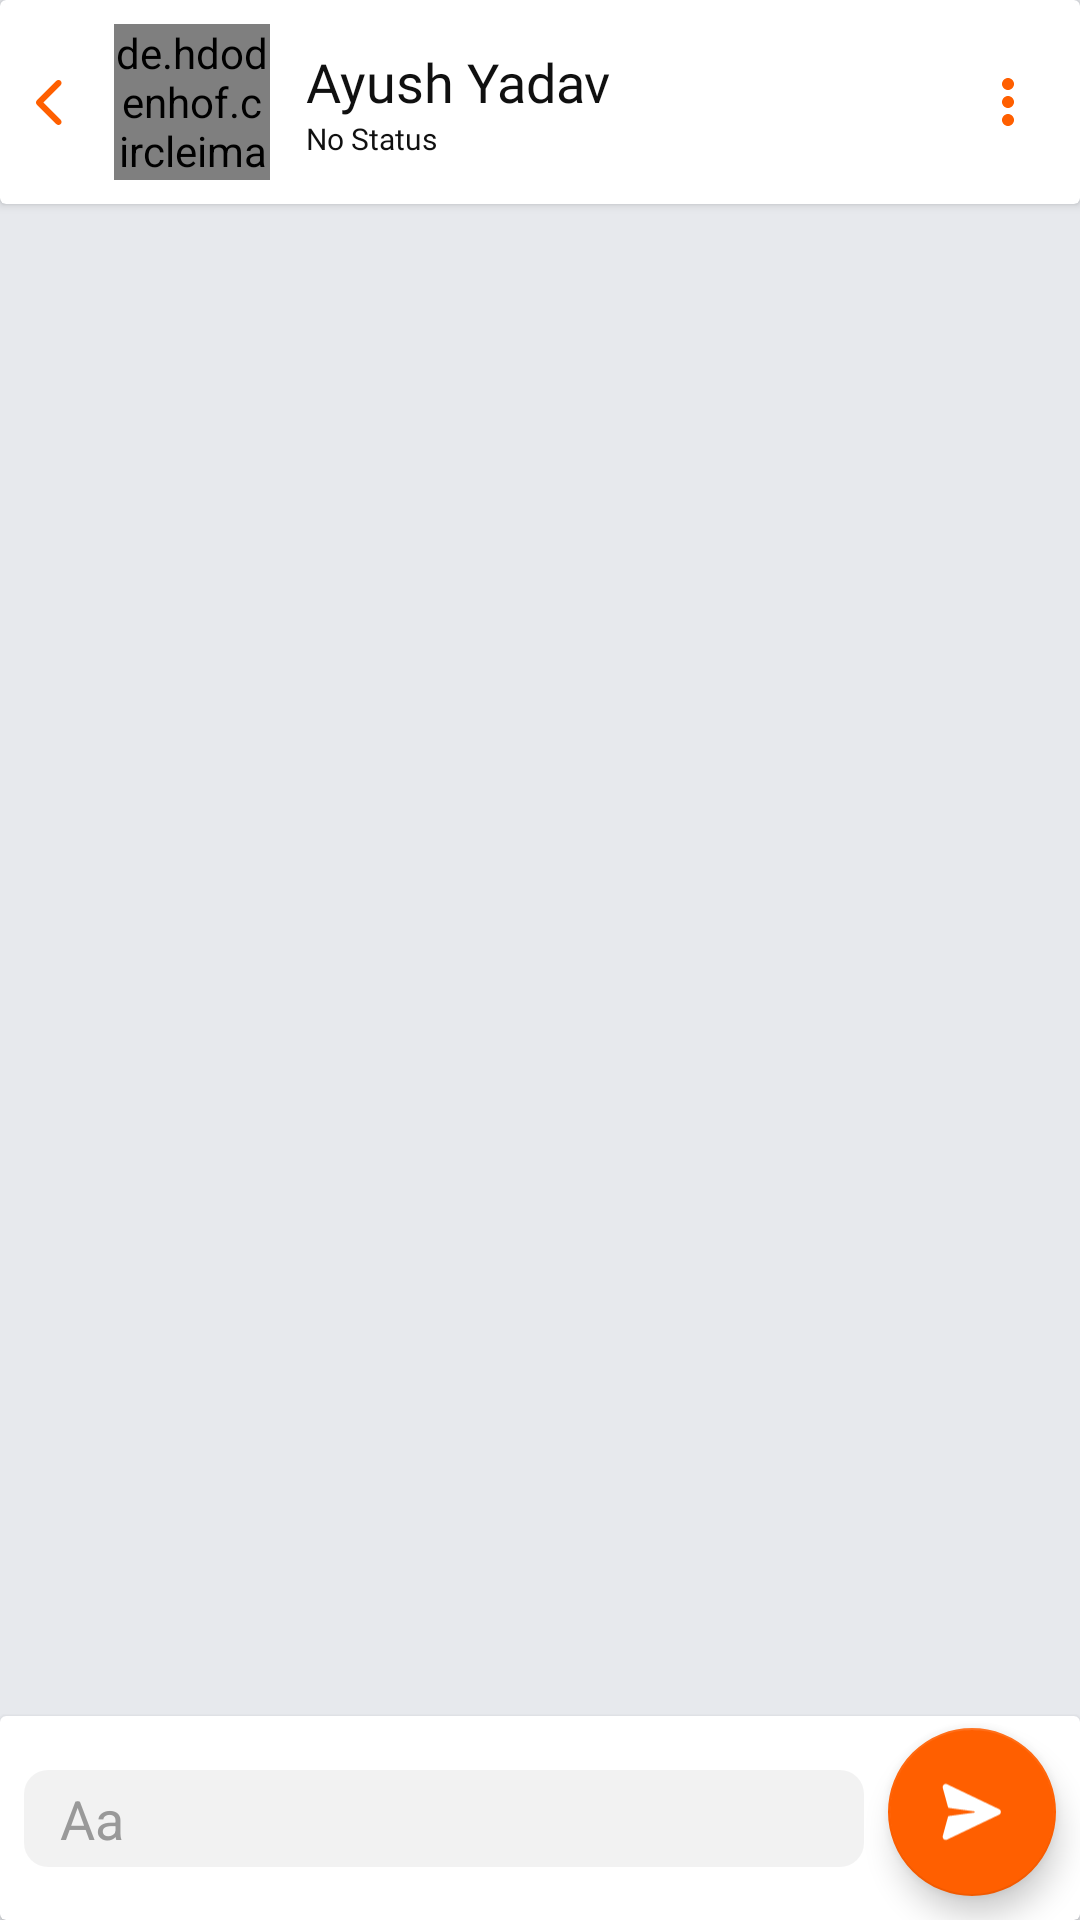

Icons on this 1080w x 1920h Android screen, each with the point to tap as [x,y]:
back arrow: [49,102]
more vert: [1008,102]
send plane: [972,1812]
